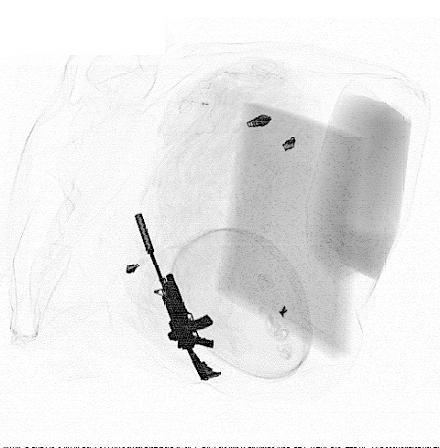Gun: (134, 212, 223, 381)
